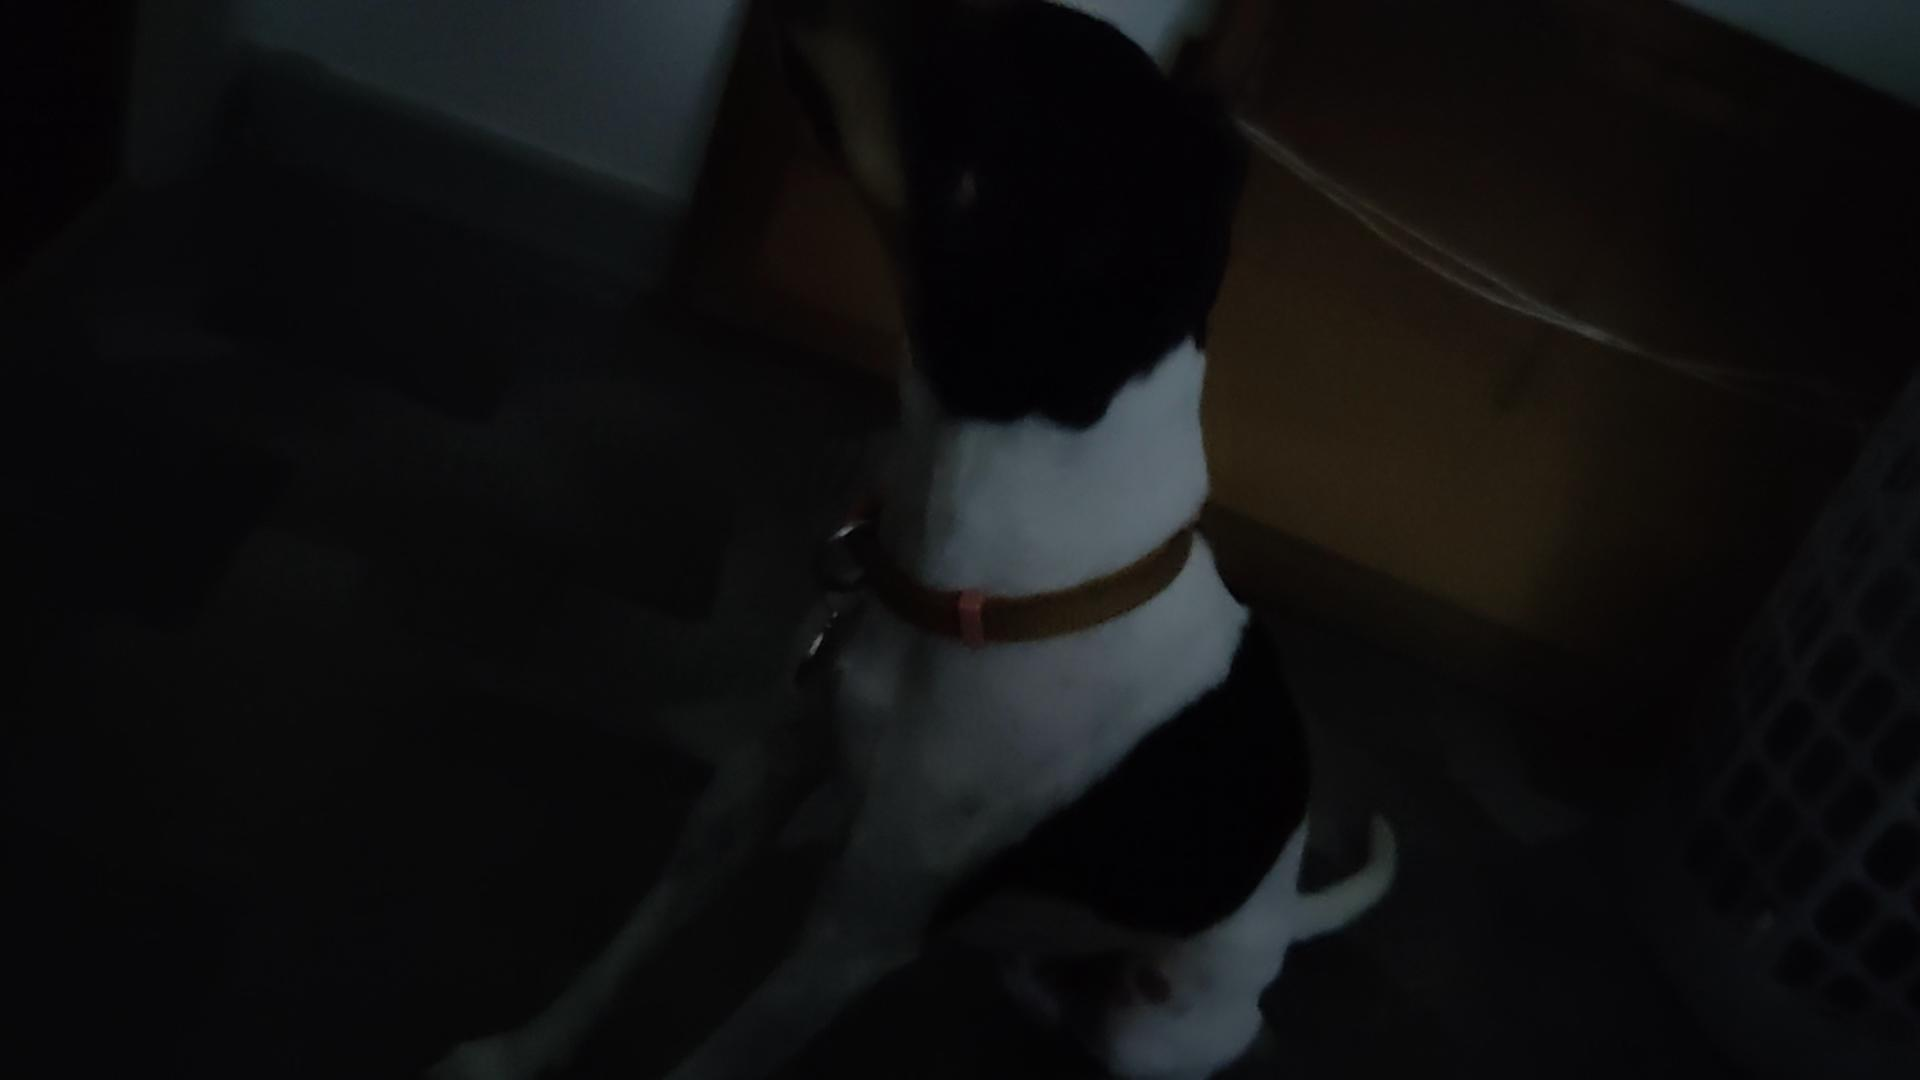Dog: (396, 0, 1408, 1080)
